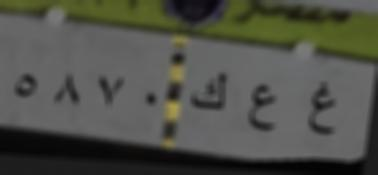0: (136, 78, 162, 119)
5: (11, 70, 44, 107)
7: (94, 68, 128, 114)
8: (54, 67, 84, 116)
ain: (244, 78, 284, 142)
ghayn: (303, 74, 344, 140)
kaaf: (185, 63, 234, 123)
